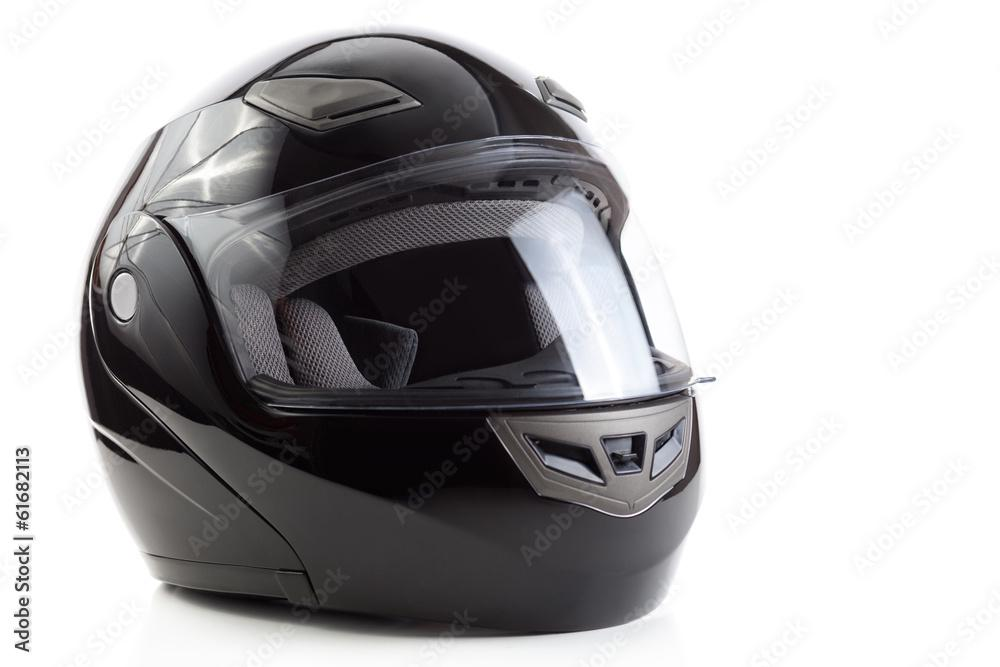helmet: (75, 28, 720, 638)
